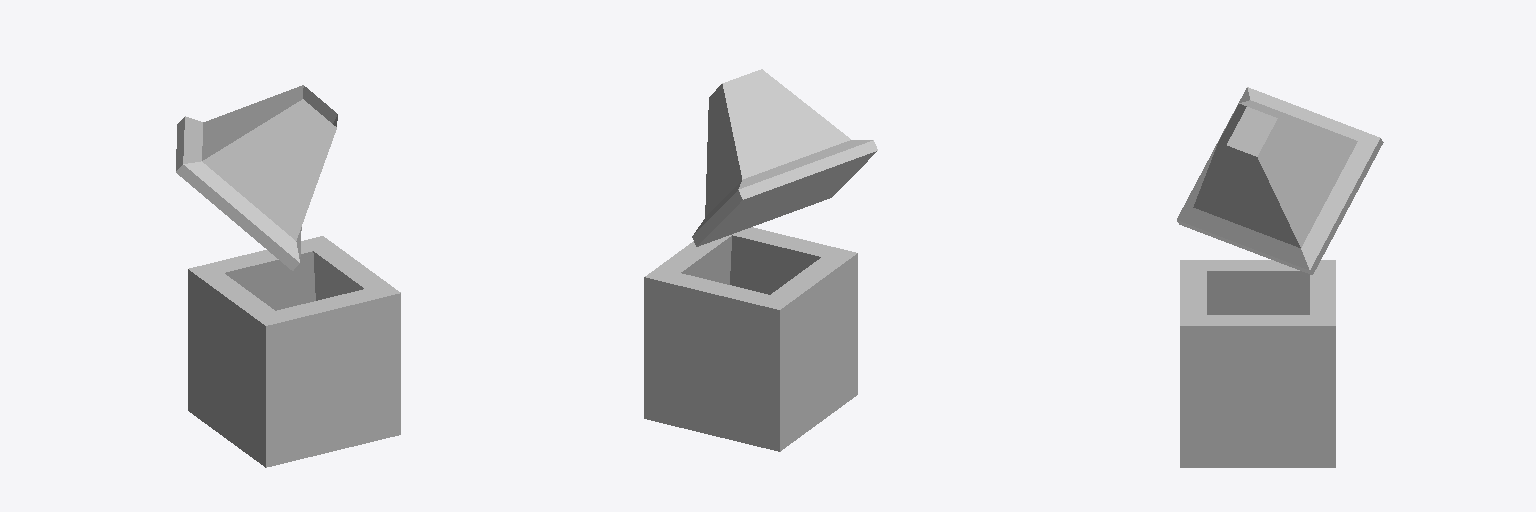
File: AnimatedBox_000097.obj
3 views of the same model, side by side, from view 1: azimuth 30°, elevation 25°; view 2: azimuth 150°, elevation 25°; view 3: azimuth 270°, elevation 25° (orthographic).
Visible parts, largest first — view 1: Cube, Cube.001; view 2: Cube, Cube.001; view 3: Cube, Cube.001.
Part boxes in pixels (x1,y1,x2,y2): Cube: (188, 236, 400, 467); Cube.001: (176, 85, 337, 270); Cube: (644, 227, 857, 451); Cube.001: (692, 69, 877, 246); Cube: (1180, 260, 1335, 467); Cube.001: (1177, 87, 1383, 274).
Size of the model in its own units: 2.82 by 4.67 by 2.65.